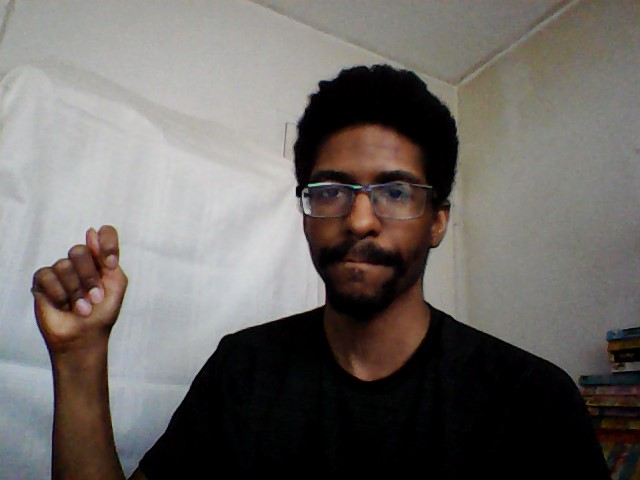t: (25, 220, 133, 346)
